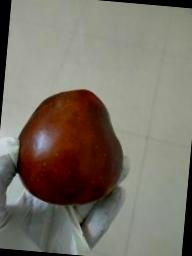Apple Rotten: (6, 80, 130, 212)
